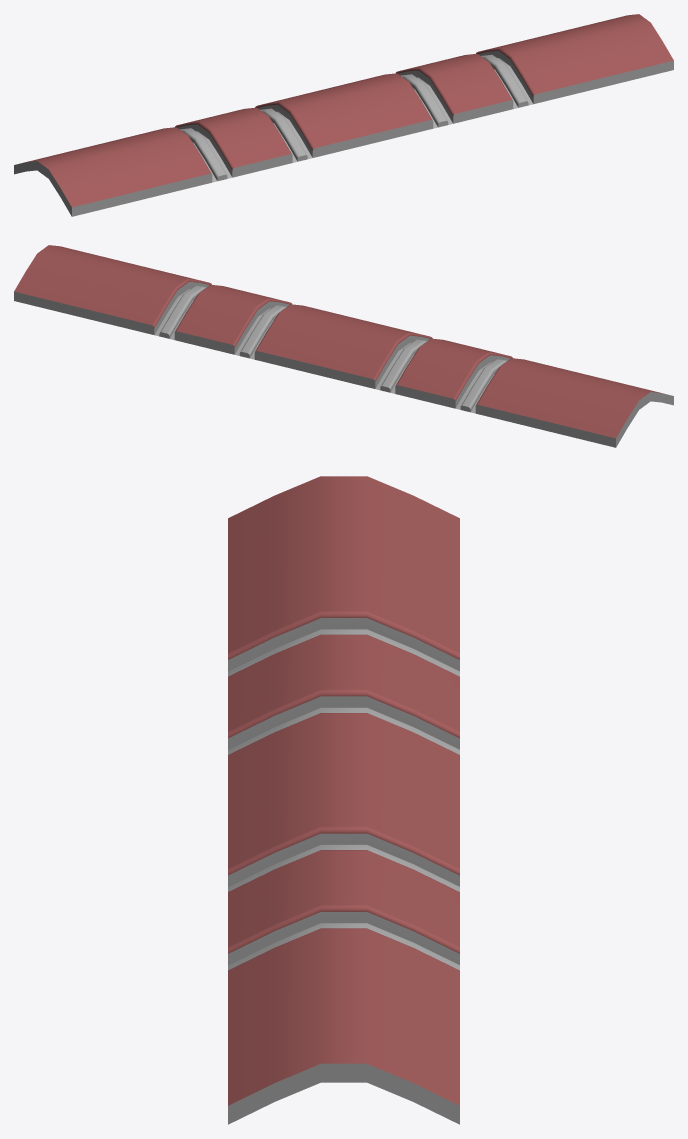
File: bump.fbx
3 views of the same model, one above another, from view 1: azimuth 30°, elevation 25°; view 2: azimuth 150°, elevation 25°; view 3: azimuth 270°, elevation 25° (orthographic). The views are drawn at different scales.
Parts seen in each view (by area): view 1: bump; view 2: bump; view 3: bump.
Boxes of the visible parts, x1,y1,x2,y2 form: bump: [14, 14, 673, 216]; bump: [14, 245, 673, 447]; bump: [228, 476, 459, 1124].
Bounding box in the file's own units: 600 × 29.03 × 100.
